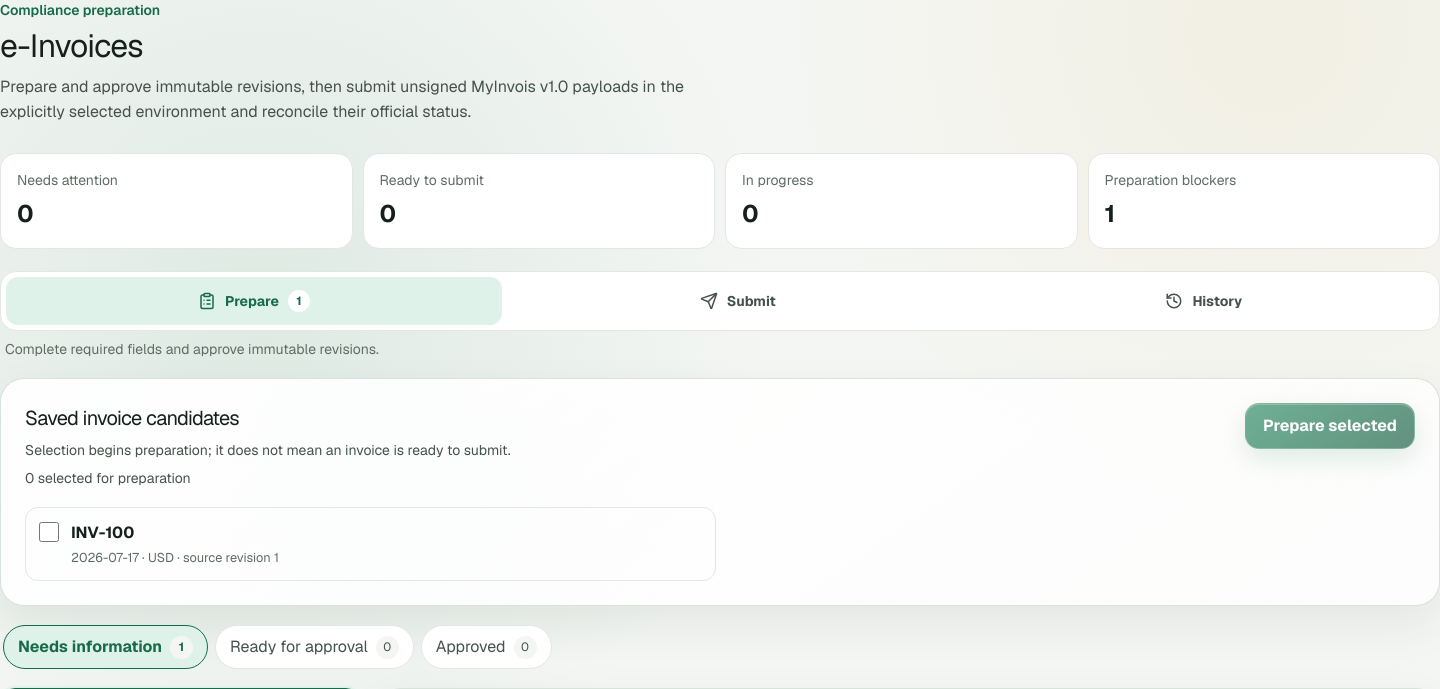
it: EInvoiceWorkspace › keeps preparation records available when submission status fails independently
The image size is (1440, 689).
Expected: the heading "Saved invoice candidates" is shown, [25,405,239,431]
# Submission failures stay isolated to the Submit stage and still offer a retry.
Click the tab "Submit" at (738, 301), box [508,277,968,325]
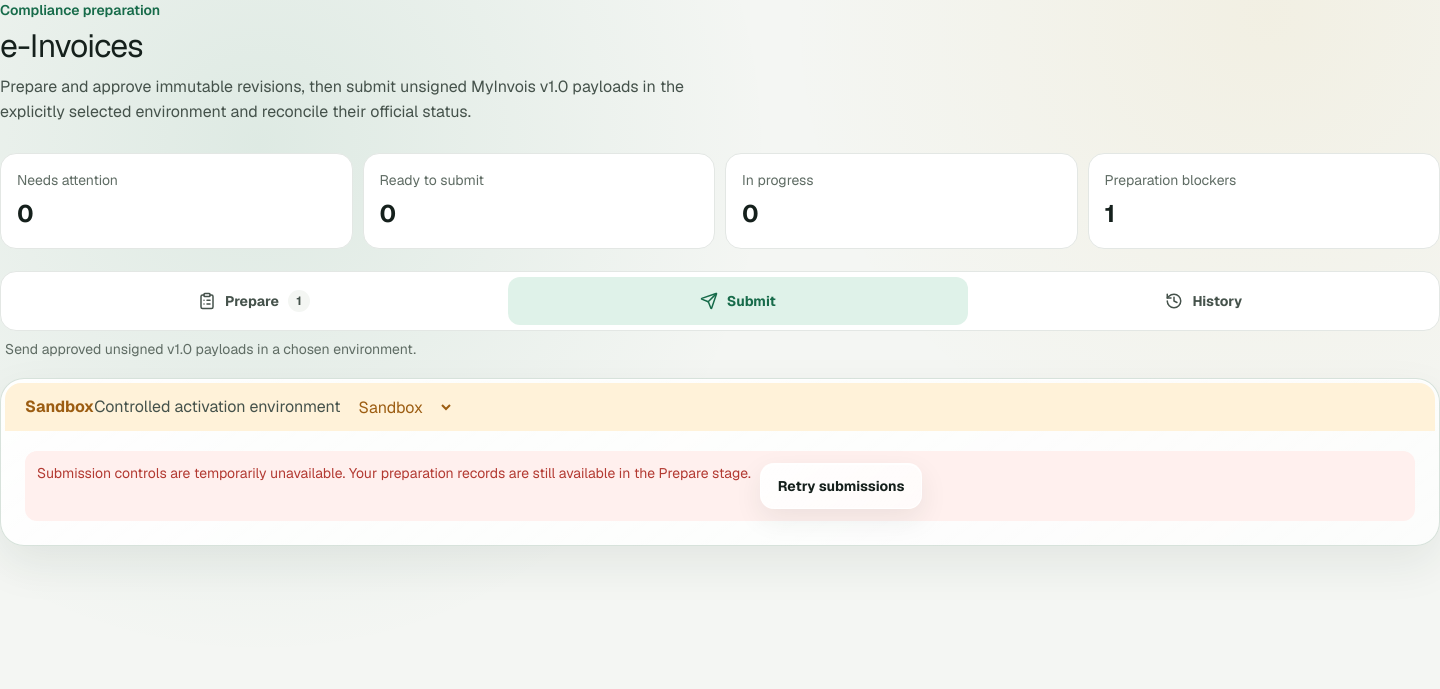
Now the message shows "Submission controls are temporarily unavailable", box [37,464,751,482]
Now the button "Retry submissions" is enabled, box [760,463,922,509]
